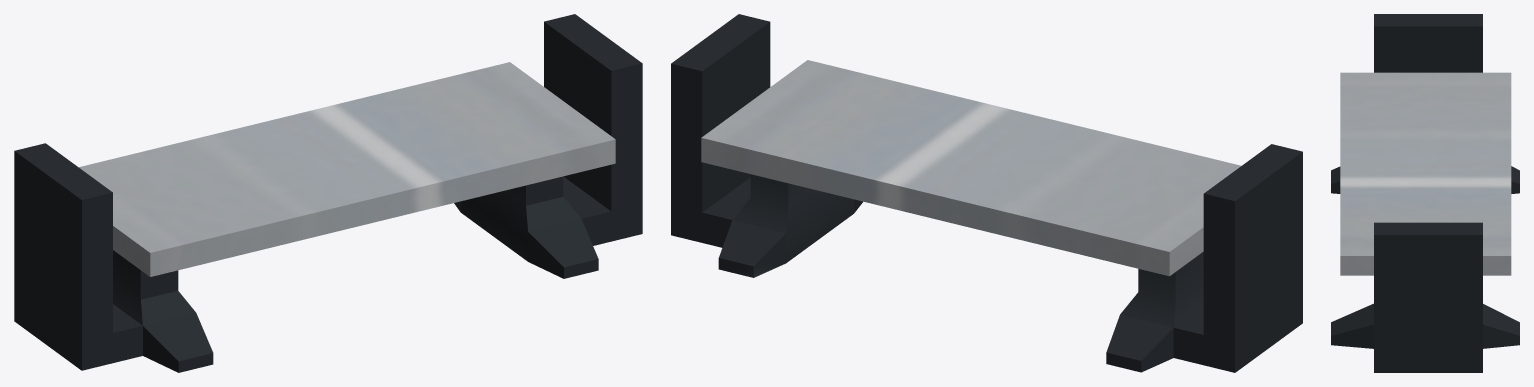
The model's file is SM_Bench2.fbx.
The picture shows the model from 3 angles, left to right: view 1: azimuth 30°, elevation 25°; view 2: azimuth 150°, elevation 25°; view 3: azimuth 270°, elevation 25°; orthographic projection. The views are drawn at different scales.
Visible parts, largest first — view 1: SM_Bench; view 2: SM_Bench; view 3: SM_Bench.
Boxes of the visible parts, x1,y1,x2,y2 form: SM_Bench: (14,14,642,372); SM_Bench: (671,14,1302,372); SM_Bench: (1331,14,1519,372).
Size of the model in its own units: 248 by 89.49 by 72.17.
1 material, 1 textured.
